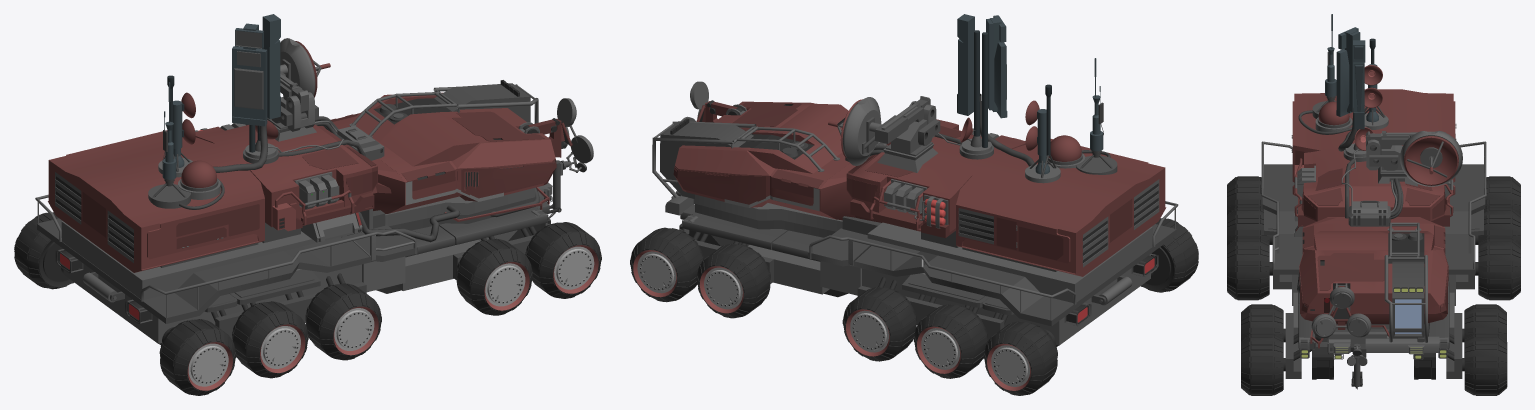
Rendered from Modified_Rover.fbx.
3 renders of one model, left to right at view 1: azimuth 30°, elevation 25°; view 2: azimuth 150°, elevation 25°; view 3: azimuth 270°, elevation 25°, orthographic. The views are drawn at different scales.
Visible parts, largest first — view 1: Cube.001, Cube.019, Cube.005, Cube.055, Cube.016, Cylinder.163, Cylinder.160, Cylinder.161, Cylinder.162, Cylinder.001, Cube.003, Cube.027 (+36 smaller); view 2: Cube.001, Cube.019, Cube.016, Cube.005, Cylinder.077, Cylinder.111, Cylinder.003, Cylinder.112, Cylinder.002, Cube.055, Cube.003, Cube.026 (+37 smaller); view 3: Cube.019, Cube.003, Cube.001, Cube.005, Cylinder.002, Cylinder.111, Cylinder.161, Cylinder.001, Cube.013, Cube.055, Cube.129, Sphere.001 (+45 smaller).
Part boxes in pixels (x1,y1,x2,y2): Cube.001: (48,130,264,272); Cube.019: (37,218,417,323); Cube.005: (195,124,377,227); Cube.055: (350,94,479,166); Cube.016: (61,221,353,299); Cylinder.163: (159,319,236,395); Cylinder.160: (456,238,532,315); Cylinder.161: (305,283,381,360); Cylinder.162: (232,301,308,378); Cylinder.001: (525,222,601,298); Cube.003: (412,92,555,201); Cube.027: (63,250,361,343); Cube.001: (956,139,1166,276); Cube.019: (808,224,1176,326); Cube.016: (867,222,1152,302); Cube.005: (846,119,1025,232); Cylinder.077: (696,243,770,318); Cylinder.111: (842,287,916,361); Cylinder.003: (984,321,1057,395); Cylinder.112: (914,304,987,378); Cylinder.002: (630,227,703,302); Cube.055: (748,103,848,173); Cube.003: (674,101,814,207); Cube.026: (680,204,823,261); Cube.019: (1262,164,1485,274); Cube.003: (1300,247,1447,324); Cube.001: (1292,89,1455,182); Cube.005: (1301,147,1446,221); Cylinder.002: (1464,333,1507,395); Cylinder.111: (1478,237,1520,300); Cylinder.161: (1227,237,1269,300); Cylinder.001: (1241,333,1283,395); Cube.013: (1392,261,1424,338); Cube.055: (1314,231,1433,252); Cube.129: (1317,253,1384,290); Sphere.001: (1404,136,1458,185).
Bounding box in the file's own units: 2139 × 1248 × 1320.
